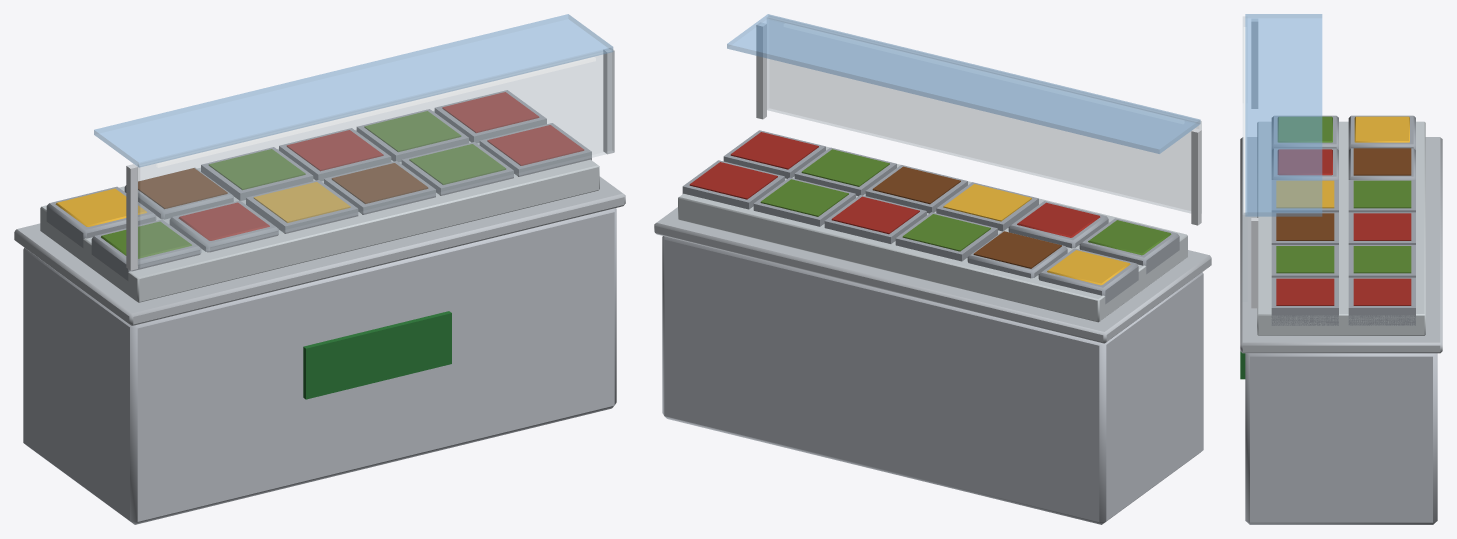
The model's file is galley_salad_bar.glb.
3 views of the same model, side by side, from view 1: azimuth 30°, elevation 25°; view 2: azimuth 150°, elevation 25°; view 3: azimuth 270°, elevation 25° (orthographic). The views are drawn at different scales.
Parts seen in each view (by area): view 1: galley_salad_bar; view 2: galley_salad_bar; view 3: galley_salad_bar.
Boxes of the visible parts, <box> form: galley_salad_bar: <box>14,14,625,524</box>; galley_salad_bar: <box>654,14,1211,524</box>; galley_salad_bar: <box>1240,14,1442,524</box>.
Size of the model in its own units: 2.04 by 1.43 by 0.84.
